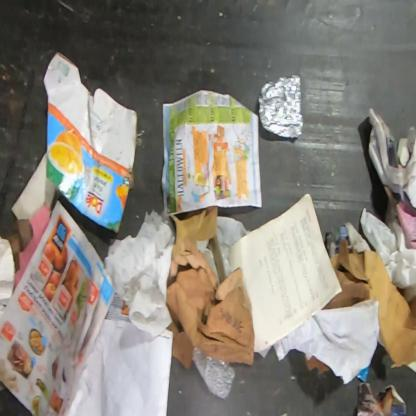cardboard: (42, 50, 139, 236), (10, 150, 58, 252)
rigid_plastic: (191, 346, 236, 402)
soft_plastic: (273, 300, 380, 385), (258, 74, 304, 139)
